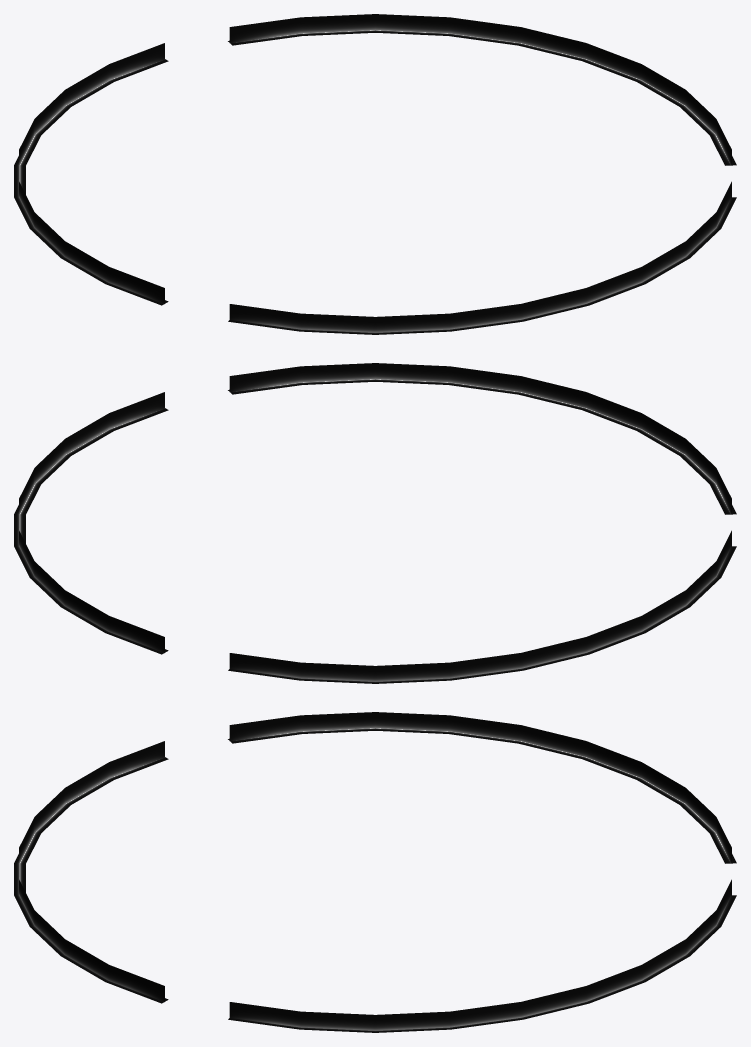
Rendered from M_huan_02.FBX.
The picture shows the model from 3 angles, top to bottom: view 1: azimuth 30°, elevation 25°; view 2: azimuth 150°, elevation 25°; view 3: azimuth 270°, elevation 25°; orthographic projection.
Visible parts, largest first — view 1: M_huan_02; view 2: M_huan_02; view 3: M_huan_02.
Boxes of the visible parts, bbox=[...] form: M_huan_02: bbox=[14, 14, 736, 334]; M_huan_02: bbox=[14, 363, 736, 683]; M_huan_02: bbox=[14, 712, 736, 1032].
Bounding box in the file's own units: 203 × 5 × 202.
Materials: 1 (1 with a texture image).
